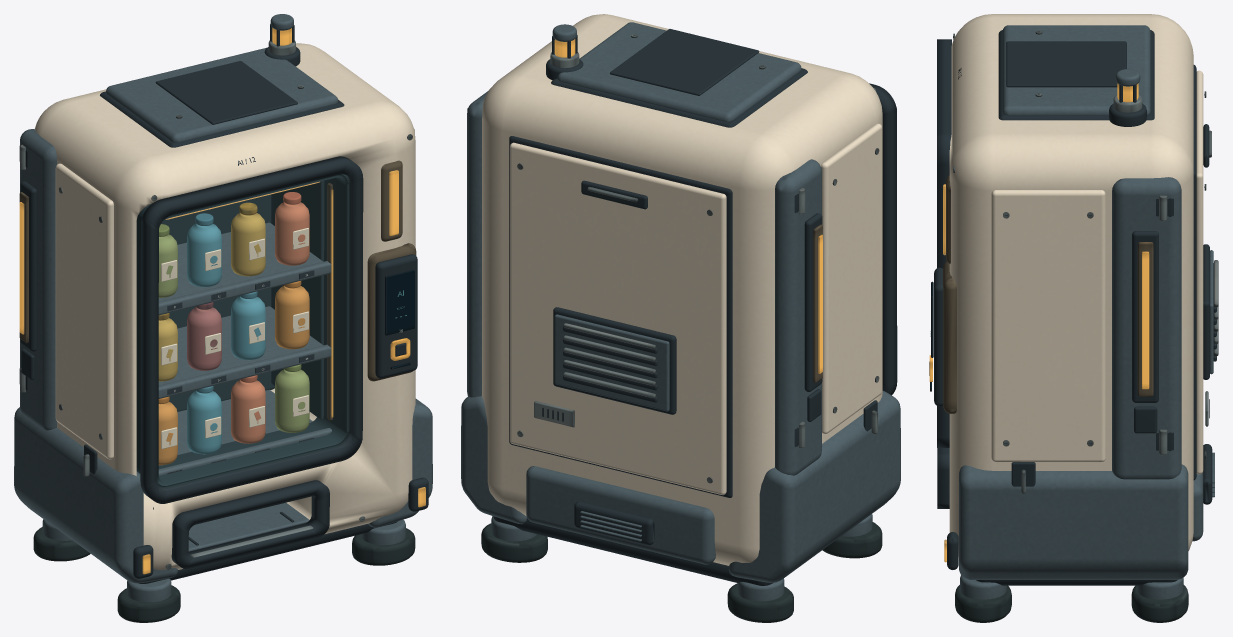
The model's file is VendingMachine.glb.
The picture shows the model from 3 angles, left to right: view 1: azimuth 30°, elevation 25°; view 2: azimuth 150°, elevation 25°; view 3: azimuth 270°, elevation 25°; orthographic projection. The views are drawn at different scales.
Parts seen in each view (by area): view 1: Body_MainShell_LightVariant, Display_OuterBezel, Side_-1_Ivory_Inset, Lower_-1_Armor_Cheek, Display_InnerReveal, Top_Service_SlatePlate, Side_-1_UprightArmor, Delivery_Hatch_Rim, Top_Service_CenterStrip, Display_Interior_Right, Display_Interior_Back, Controls_Black_Module (+36 smaller); view 2: Body_MainShell_LightVariant, Rear_ServicePanel_LightVariant, Side_-1_Ivory_Inset, Lower_-1_Armor_Cheek, Side_-1_UprightArmor, Rear_Lower_KickPlate, Top_Service_SlatePlate, Top_Service_CenterStrip, Display_OuterBezel, Side_1_UprightArmor, Rear_Vent_Perimeter, Rear_ServicePanel_Shadow (+15 smaller); view 3: Body_MainShell_LightVariant, Side_1_Ivory_Inset, Lower_1_Armor_Cheek, Side_1_UprightArmor, Top_Service_SlatePlate, Top_Service_CenterStrip, Rear_ServicePanel_LightVariant, Display_OuterBezel, Side_1_LampFrame, Controls_Socket, Side_1_Lamp_Recess, Rear_ServicePanel_Shadow (+18 smaller).
Part boxes in pixels (x1,y1,x2,y2): Body_MainShell_LightVariant: (35, 43, 415, 569); Display_OuterBezel: (140, 156, 363, 503); Side_-1_Ivory_Inset: (55, 163, 113, 459); Lower_-1_Armor_Cheek: (14, 407, 177, 583); Display_InnerReveal: (136, 174, 349, 488); Top_Service_SlatePlate: (106, 47, 338, 142); Side_-1_UprightArmor: (20, 129, 56, 430); Delivery_Hatch_Rim: (171, 480, 329, 569); Top_Service_CenterStrip: (155, 61, 297, 124); Display_Interior_Right: (271, 180, 324, 419); Display_Interior_Back: (161, 194, 274, 411); Controls_Black_Module: (375, 254, 417, 378); Body_MainShell_LightVariant: (482, 14, 882, 565); Rear_ServicePanel_LightVariant: (510, 142, 726, 494); Side_-1_Ivory_Inset: (821, 123, 882, 433); Lower_-1_Armor_Cheek: (729, 391, 900, 582); Side_-1_UprightArmor: (775, 159, 821, 475); Rear_Lower_KickPlate: (526, 466, 715, 564); Top_Service_SlatePlate: (557, 22, 801, 121); Top_Service_CenterStrip: (610, 29, 759, 95); Display_OuterBezel: (869, 83, 897, 395); Side_1_UprightArmor: (467, 90, 488, 397); Rear_Vent_Perimeter: (554, 314, 669, 411); Rear_ServicePanel_Shadow: (509, 136, 732, 497); Body_MainShell_LightVariant: (949, 14, 1193, 556); Side_1_Ivory_Inset: (991, 190, 1105, 462); Lower_1_Armor_Cheek: (959, 464, 1188, 579); Side_1_UprightArmor: (1112, 177, 1181, 479); Top_Service_SlatePlate: (1002, 25, 1150, 115); Top_Service_CenterStrip: (1006, 41, 1126, 87); Rear_ServicePanel_LightVariant: (1196, 70, 1203, 474); Display_OuterBezel: (937, 39, 951, 447); Side_1_LampFrame: (1132, 231, 1158, 402); Controls_Socket: (943, 261, 956, 413); Side_1_Lamp_Recess: (1137, 242, 1153, 396); Rear_ServicePanel_Shadow: (1193, 65, 1196, 480).
Bounding box in the file's own units: 1.27 × 1.79 × 0.9.
26 materials, 26 textured.
